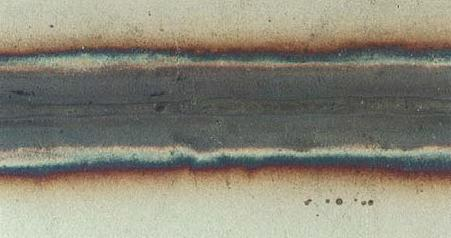soldas: (0, 44, 451, 182)
